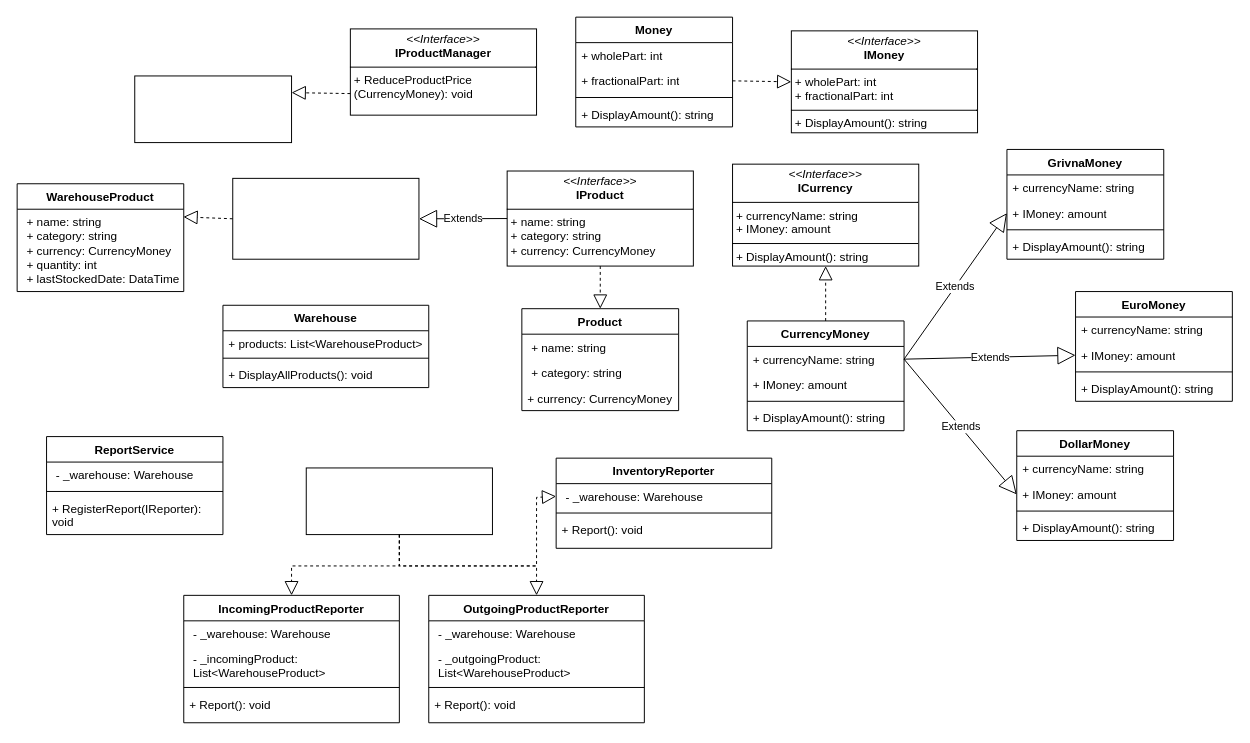
This 1250x743 diagram has some shape labels left out. The shapes that lost their labels are listed below. From the top down, each one's centre as x and y in pixels, then its label:
pixel 213 109: ProductManager + ReduceProductPrice (CurrencyMoney): void
pixel 325 218: <<Interface>> IWareHouseProduct + quantity: int + lastStockedDate: DataTime
pixel 398 501: <<Interface>> IReporter + Report(): void
